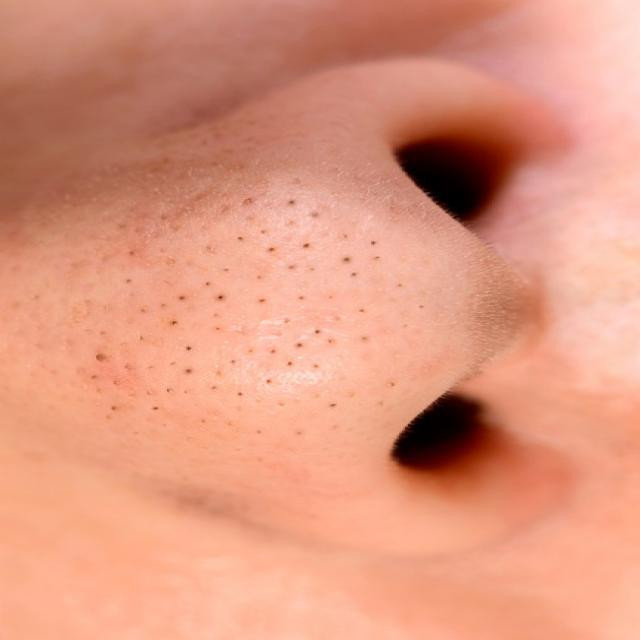blackhead: (51, 141, 396, 435)
